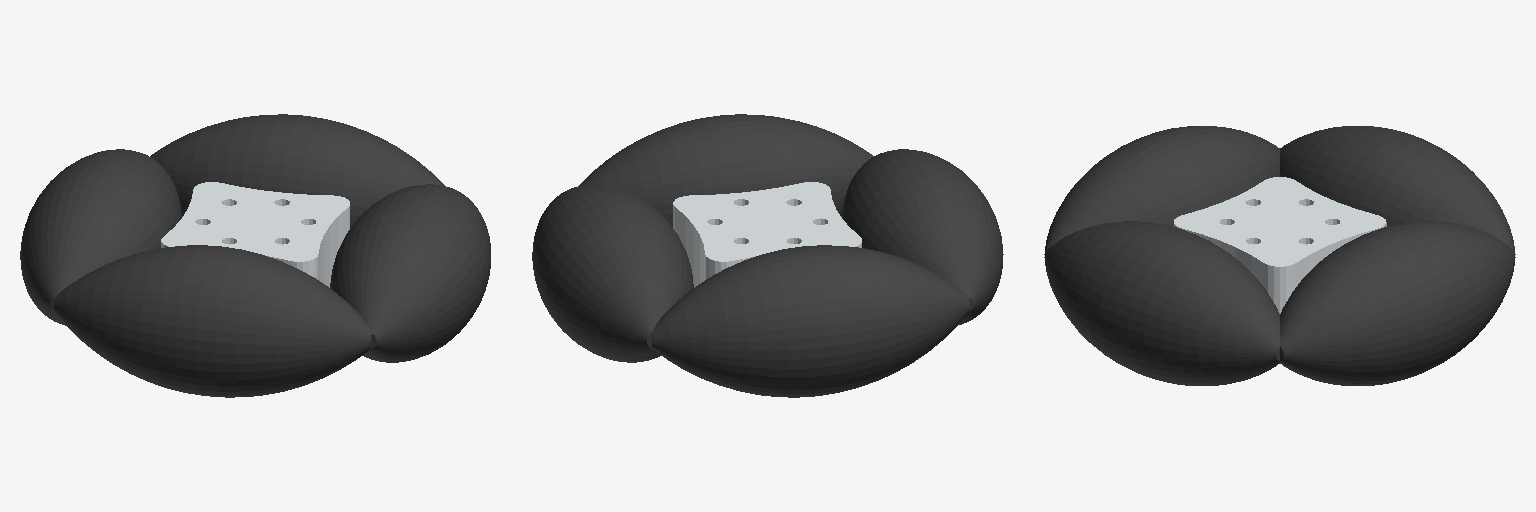
robot.urdf — omniwheel:
<?xml version="1.0" encoding="utf-8"?>
<!-- This URDF was automatically created by SolidWorks to URDF Exporter! Originally created by [author] ([email redacted]) 
     Commit Version: 1.6.0-4-g7f85cfe  Build Version: 1.6.7995.38578
     For more information, please see http://wiki.ros.org/sw_urdf_exporter -->
<robot
  name="omniwheel">
  <link
    name="center_link">
    <inertial>
      <origin
        xyz="-1.7913E-18 3.2929E-19 1.715E-17"
        rpy="0 0 0" />
      <mass
        value="0.08478" />
      <inertia
        ixx="1.5E-05"
        ixy="-2.788E-23"
        ixz="2.3372E-20"
        iyy="2.4349E-05"
        iyz="1.3086E-24"
        izz="1.5E-05" />
    </inertial>
    <visual>
      <origin
        xyz="0 0 0"
        rpy="0 0 0" />
      <geometry>
        <mesh
          filename="../meshes/center_link.STL" />
      </geometry>
      <material
        name="">
        <color
          rgba="0.89804 0.91765 0.92941 1" />
      </material>
    </visual>
    <collision>
      <origin
        xyz="0 0 0"
        rpy="0 0 0" />
      <geometry>
        <mesh
          filename="../meshes/center_link.STL" />
      </geometry>
    </collision>
  </link>
  <link
    name="roller_link_0">
    <inertial>
      <origin
        xyz="-5.5511E-17 -6.9389E-18 3.8164E-17"
        rpy="0 0 0" />
      <mass
        value="0.06464" />
      <inertia
        ixx="1.7875E-05"
        ixy="3.1764E-22"
        ixz="7.889E-06"
        iyy="2.5764E-05"
        iyz="-2.9646E-21"
        izz="1.7875E-05" />
    </inertial>
    <visual>
      <origin
        xyz="0 0 0"
        rpy="0 0 0" />
      <geometry>
        <mesh
          filename="../meshes/roller_link_0.STL" />
      </geometry>
      <material
        name="">
        <color
          rgba="0.29804 0.29804 0.29804 1" />
      </material>
    </visual>
    <collision>
      <origin
        xyz="0 0 0"
        rpy="0 0 0" />
      <geometry>
        <mesh
          filename="../meshes/roller_link_0.STL" />
      </geometry>
    </collision>
  </link>
  <joint
    name="roller_joint_0"
    type="revolute">
    <origin
      xyz="0.030052 -0.030052 0"
      rpy="1.8823 0.29744 -3.0945" />
    <parent
      link="center_link" />
    <child
      link="roller_link_0" />
    <axis
      xyz="0.70711 0 -0.70711" />
    <limit
      effort="10000"
      velocity="1000" />
    <dynamics
      damping="0"
      friction="0" />
  </joint>
  <link
    name="roller_link_1">
    <inertial>
      <origin
        xyz="-5.5511E-17 7.0183E-38 -2.0817E-17"
        rpy="0 0 0" />
      <mass
        value="0.06464" />
      <inertia
        ixx="1.7875E-05"
        ixy="-1.0848E-40"
        ixz="-7.889E-06"
        iyy="2.5764E-05"
        iyz="-1.147E-40"
        izz="1.7875E-05" />
    </inertial>
    <visual>
      <origin
        xyz="0 0 0"
        rpy="0 0 0" />
      <geometry>
        <mesh
          filename="../meshes/roller_link_1.STL" />
      </geometry>
      <material
        name="">
        <color
          rgba="0.29804 0.29804 0.29804 1" />
      </material>
    </visual>
    <collision>
      <origin
        xyz="0 0 0"
        rpy="0 0 0" />
      <geometry>
        <mesh
          filename="../meshes/roller_link_1.STL" />
      </geometry>
    </collision>
  </link>
  <joint
    name="roller_joint_1"
    type="revolute">
    <origin
      xyz="0.030052 0.030052 0"
      rpy="-1.5708 0 -1.5708" />
    <parent
      link="center_link" />
    <child
      link="roller_link_1" />
    <axis
      xyz="0.70711 0 0.70711" />
    <limit
      effort="10000"
      velocity="1000" />
    <dynamics
      damping="0"
      friction="0" />
  </joint>
  <link
    name="roller_link_2">
    <inertial>
      <origin
        xyz="-2.6368E-16 -7.0183E-38 2.3939E-16"
        rpy="0 0 0" />
      <mass
        value="0.06464" />
      <inertia
        ixx="1.7875E-05"
        ixy="1.0848E-40"
        ixz="7.889E-06"
        iyy="2.5764E-05"
        iyz="-1.147E-40"
        izz="1.7875E-05" />
    </inertial>
    <visual>
      <origin
        xyz="0 0 0"
        rpy="0 0 0" />
      <geometry>
        <mesh
          filename="../meshes/roller_link_2.STL" />
      </geometry>
      <material
        name="">
        <color
          rgba="0.29804 0.29804 0.29804 1" />
      </material>
    </visual>
    <collision>
      <origin
        xyz="0 0 0"
        rpy="0 0 0" />
      <geometry>
        <mesh
          filename="../meshes/roller_link_2.STL" />
      </geometry>
    </collision>
  </link>
  <joint
    name="roller_joint_2"
    type="revolute">
    <origin
      xyz="-0.030052 0.030052 0"
      rpy="1.5708 0 0" />
    <parent
      link="center_link" />
    <child
      link="roller_link_2" />
    <axis
      xyz="0.70711 0 -0.70711" />
    <limit
      effort="10000"
      velocity="1000" />
    <dynamics
      damping="0"
      friction="0" />
  </joint>
  <link
    name="roller_link_3">
    <inertial>
      <origin
        xyz="-1.3878E-17 -1.7347E-18 1.3878E-17"
        rpy="0 0 0" />
      <mass
        value="0.06464" />
      <inertia
        ixx="1.7875E-05"
        ixy="-1.4823E-21"
        ixz="7.889E-06"
        iyy="2.5764E-05"
        iyz="3.3087E-24"
        izz="1.7875E-05" />
    </inertial>
    <visual>
      <origin
        xyz="0 0 0"
        rpy="0 0 0" />
      <geometry>
        <mesh
          filename="../meshes/roller_link_3.STL" />
      </geometry>
      <material
        name="">
        <color
          rgba="0.29804 0.29804 0.29804 1" />
      </material>
    </visual>
    <collision>
      <origin
        xyz="0 0 0"
        rpy="0 0 0" />
      <geometry>
        <mesh
          filename="../meshes/roller_link_3.STL" />
      </geometry>
    </collision>
  </link>
  <joint
    name="roller_joint_3"
    type="revolute">
    <origin
      xyz="-0.030052 -0.030052 0"
      rpy="1.4212 -0.14796 1.5819" />
    <parent
      link="center_link" />
    <child
      link="roller_link_3" />
    <axis
      xyz="0.70711 0 -0.70711" />
    <limit
      effort="10000"
      velocity="1000" />
    <dynamics
      damping="0"
      friction="0" />
  </joint>
</robot>

--- Render facts (derived) ---
Views: 3 orthographic renders of the robot side by side, from view 1: azimuth 30°, elevation 25°; view 2: azimuth 150°, elevation 25°; view 3: azimuth 270°, elevation 25°.
Model omniwheel with 5 links and 4 joints (4 revolute), rooted at center_link, posed every joint at zero.
Visible links, largest first — view 1: roller_link_3, roller_link_0, roller_link_1, roller_link_2, center_link; view 2: roller_link_2, roller_link_1, roller_link_0, roller_link_3, center_link; view 3: roller_link_1, roller_link_0, roller_link_2, roller_link_3, center_link.
Link boxes in pixels (<box>): roller_link_3: <box>54,245,371,397</box>; roller_link_0: <box>330,184,490,362</box>; roller_link_1: <box>150,114,444,228</box>; roller_link_2: <box>20,149,181,325</box>; center_link: <box>161,182,349,287</box>; roller_link_2: <box>652,245,969,397</box>; roller_link_1: <box>532,184,693,362</box>; roller_link_0: <box>579,114,873,226</box>; roller_link_3: <box>842,149,1003,324</box>; center_link: <box>673,182,861,287</box>; roller_link_1: <box>1280,221,1515,385</box>; roller_link_0: <box>1044,221,1279,385</box>; roller_link_2: <box>1280,126,1515,254</box>; roller_link_3: <box>1044,126,1279,254</box>; center_link: <box>1174,177,1386,313</box>.
Bounding box of the posed robot: 0.125 × 0.125 × 0.04 m (x, y, z).
5 mesh visuals loaded from 5 distinct referenced files (5 binary STL).